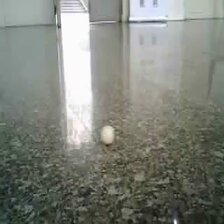w: (99, 124, 117, 147)
